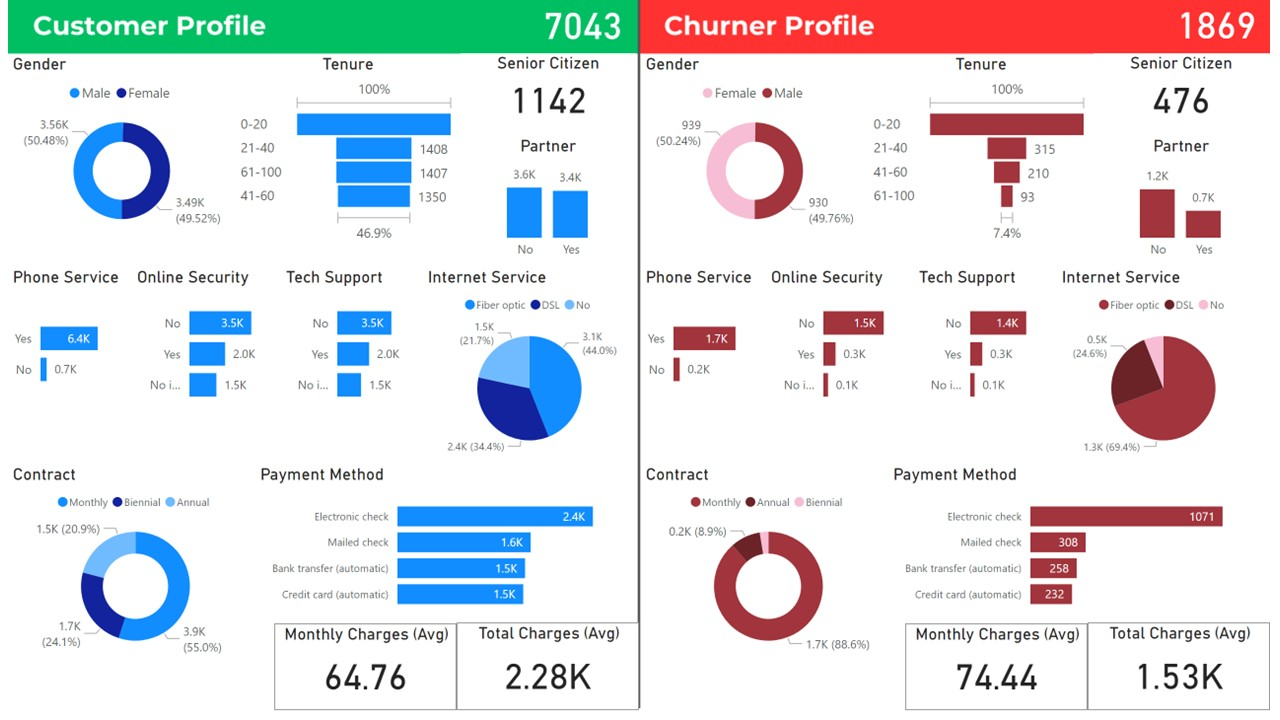

Layout of this report page (visuals, bound fields, positions):
{"tool":"powerbi","page":{"name":"Summary","canvas":[1280,720],"ordinal":0},"visuals":[{"type":"donutChart","title":"Gender","fields":{"Category":["customer_churn.gender"],"Y":["CountNonNull(customer_churn.gender)"]},"box":[0,55.4,230.8,187.7],"z":0},{"type":"funnel","title":"Tenure","fields":{"Category":["customer_churn.Tenure_Bin"],"Y":["CountNonNull(customer_churn.Tenure_Bin)"]},"box":[231,55,228,196],"z":1000},{"type":"barChart","title":"Phone Service","fields":{"Category":["customer_churn.phone_service"],"Y":["CountNonNull(customer_churn.phone_service)"]},"box":[0,270.7,126.4,150],"z":2000},{"type":"barChart","title":"Online Security","fields":{"Category":["customer_churn.online_security"],"Y":["CountNonNull(customer_churn.online_security)"]},"box":[126.4,270.7,150.7,150],"z":3000},{"type":"barChart","title":"Tech Support","fields":{"Y":["CountNonNull(customer_churn.tech_support)"],"Category":["customer_churn.tech_support"]},"box":[277.1,270.7,145,150],"z":4000},{"type":"pieChart","title":"Internet Service","fields":{"Category":["customer_churn.internet_service"],"Y":["CountNonNull(customer_churn.internet_service)"]},"box":[421.4,270.7,215.7,200],"z":5000},{"type":"donutChart","title":"Contract","fields":{"Category":["customer_churn.contract"],"Y":["CountNonNull(customer_churn.contract)"]},"box":[0,470.7,258.6,201.4],"z":6000},{"type":"barChart","title":"Payment Method","fields":{"Category":["customer_churn.payment_method"],"Y":["CountNonNull(customer_churn.payment_method)"]},"box":[250.7,470.7,386.4,157.9],"z":7000},{"type":"card","title":"Monthly Charges (Avg)","fields":{"Values":["Avg(customer_churn.monthly_charges)"]},"box":[270,632,185,88],"z":8000},{"type":"card","title":"Total Charges (Avg)","fields":{"Values":["Avg(customer_churn.total_charges)"]},"box":[455,631,185,89],"z":9000},{"type":"columnChart","title":"Partner","fields":{"Category":["customer_churn.partner"],"Y":["CountNonNull(customer_churn.partner)"]},"box":[459,138,178,133],"z":10000},{"type":"card","title":"Senior Citizen","fields":{"Values":["CountNonNull(customer_churn.senior_citizen)"]},"box":[459,54,178,75],"z":11000},{"type":"donutChart","title":"Gender","fields":{"Category":["churned_data.gender"],"Y":["CountNonNull(churned_data.gender)"]},"box":[642.2,55.4,230.8,187.7],"z":12000},{"type":"funnel","title":"Tenure","fields":{"Category":["churned_data.Tenure_Bin"],"Y":["CountNonNull(churned_data.Tenure_Bin)"]},"box":[873,55,228,196],"z":13000},{"type":"barChart","title":"Phone Service","fields":{"Category":["churned_data.phone_service"],"Y":["CountNonNull(churned_data.phone_service)"]},"box":[642.2,270.7,126.4,150],"z":14000},{"type":"barChart","title":"Online Security","fields":{"Category":["churned_data.online_security"],"Y":["CountNonNull(churned_data.online_security)"]},"box":[768.6,270.7,150.7,150],"z":15000},{"type":"barChart","title":"Tech Support","fields":{"Category":["churned_data.tech_support"],"Y":["CountNonNull(churned_data.tech_support)"]},"box":[919.4,270.7,145,150],"z":16000},{"type":"pieChart","title":"Internet Service","fields":{"Category":["churned_data.internet_service"],"Y":["CountNonNull(churned_data.internet_service)"]},"box":[1063.6,270.7,215.7,200],"z":17000},{"type":"donutChart","title":"Contract","fields":{"Category":["churned_data.contract"],"Y":["CountNonNull(churned_data.contract)"]},"box":[642.2,470.7,258.6,201.4],"z":18000},{"type":"barChart","title":"Payment Method","fields":{"Category":["churned_data.payment_method"],"Y":["CountNonNull(churned_data.payment_method)"]},"box":[892.9,470.7,386.4,157.9],"z":19000},{"type":"card","title":"Monthly Charges (Avg)","fields":{"Values":["Avg(churned_data.monthly_charges)"]},"box":[910,632,185,88],"z":20000},{"type":"card","title":"Total Charges (Avg)","fields":{"Values":["Avg(churned_data.total_charges)"]},"box":[1095,631,185,89],"z":21000},{"type":"columnChart","title":"Partner","fields":{"Category":["churned_data.partner"],"Y":["CountNonNull(churned_data.partner)"]},"box":[1101,138,178,133],"z":22000},{"type":"card","title":"Senior Citizen","fields":{"Values":["CountNonNull(churned_data.senior_citizen)"]},"box":[1101.2,54,178,75],"z":23000},{"type":"card","fields":{"Values":["CountNonNull(customer_churn.customerid)"]},"box":[529,1,108,44],"z":24000},{"type":"card","fields":{"Values":["CountNonNull(churned_data.customerid)"]},"box":[1172,1,107,43],"z":25000}]}

Visuals, with their boxes in screenshot pixels (x1, y1, x2, y2), scaled from the page's 1280x720 canvas onto the 1280x720 screenshot:
"Gender" donutChart: rect(0, 55, 231, 243)
"Tenure" funnel: rect(231, 55, 459, 251)
"Phone Service" barChart: rect(0, 271, 126, 421)
"Online Security" barChart: rect(126, 271, 277, 421)
"Tech Support" barChart: rect(277, 271, 422, 421)
"Internet Service" pieChart: rect(421, 271, 637, 471)
"Contract" donutChart: rect(0, 471, 259, 672)
"Payment Method" barChart: rect(251, 471, 637, 629)
"Monthly Charges (Avg)" card: rect(270, 632, 455, 719)
"Total Charges (Avg)" card: rect(455, 631, 640, 719)
"Partner" columnChart: rect(459, 138, 637, 271)
"Senior Citizen" card: rect(459, 54, 637, 129)
"Gender" donutChart: rect(642, 55, 873, 243)
"Tenure" funnel: rect(873, 55, 1101, 251)
"Phone Service" barChart: rect(642, 271, 769, 421)
"Online Security" barChart: rect(769, 271, 919, 421)
"Tech Support" barChart: rect(919, 271, 1064, 421)
"Internet Service" pieChart: rect(1064, 271, 1279, 471)
"Contract" donutChart: rect(642, 471, 901, 672)
"Payment Method" barChart: rect(893, 471, 1279, 629)
"Monthly Charges (Avg)" card: rect(910, 632, 1095, 719)
"Total Charges (Avg)" card: rect(1095, 631, 1279, 719)
"Partner" columnChart: rect(1101, 138, 1279, 271)
"Senior Citizen" card: rect(1101, 54, 1279, 129)
card - CountNonNull(customer_churn.customerid): rect(529, 1, 637, 45)
card - CountNonNull(churned_data.customerid): rect(1172, 1, 1279, 44)
